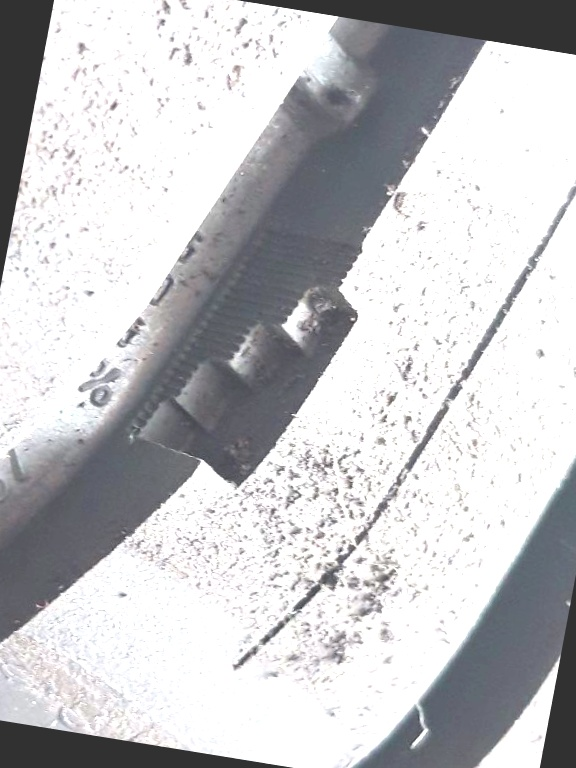temoin:95: (104, 195, 388, 521)
